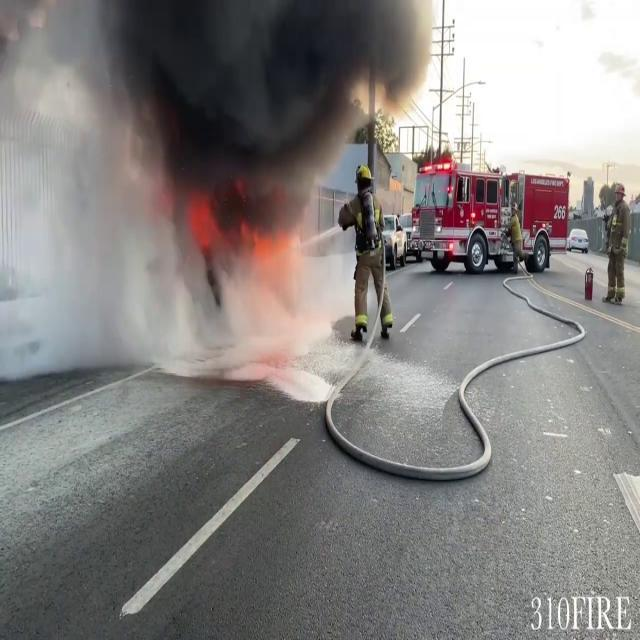Smoke: (56, 0, 420, 201)
